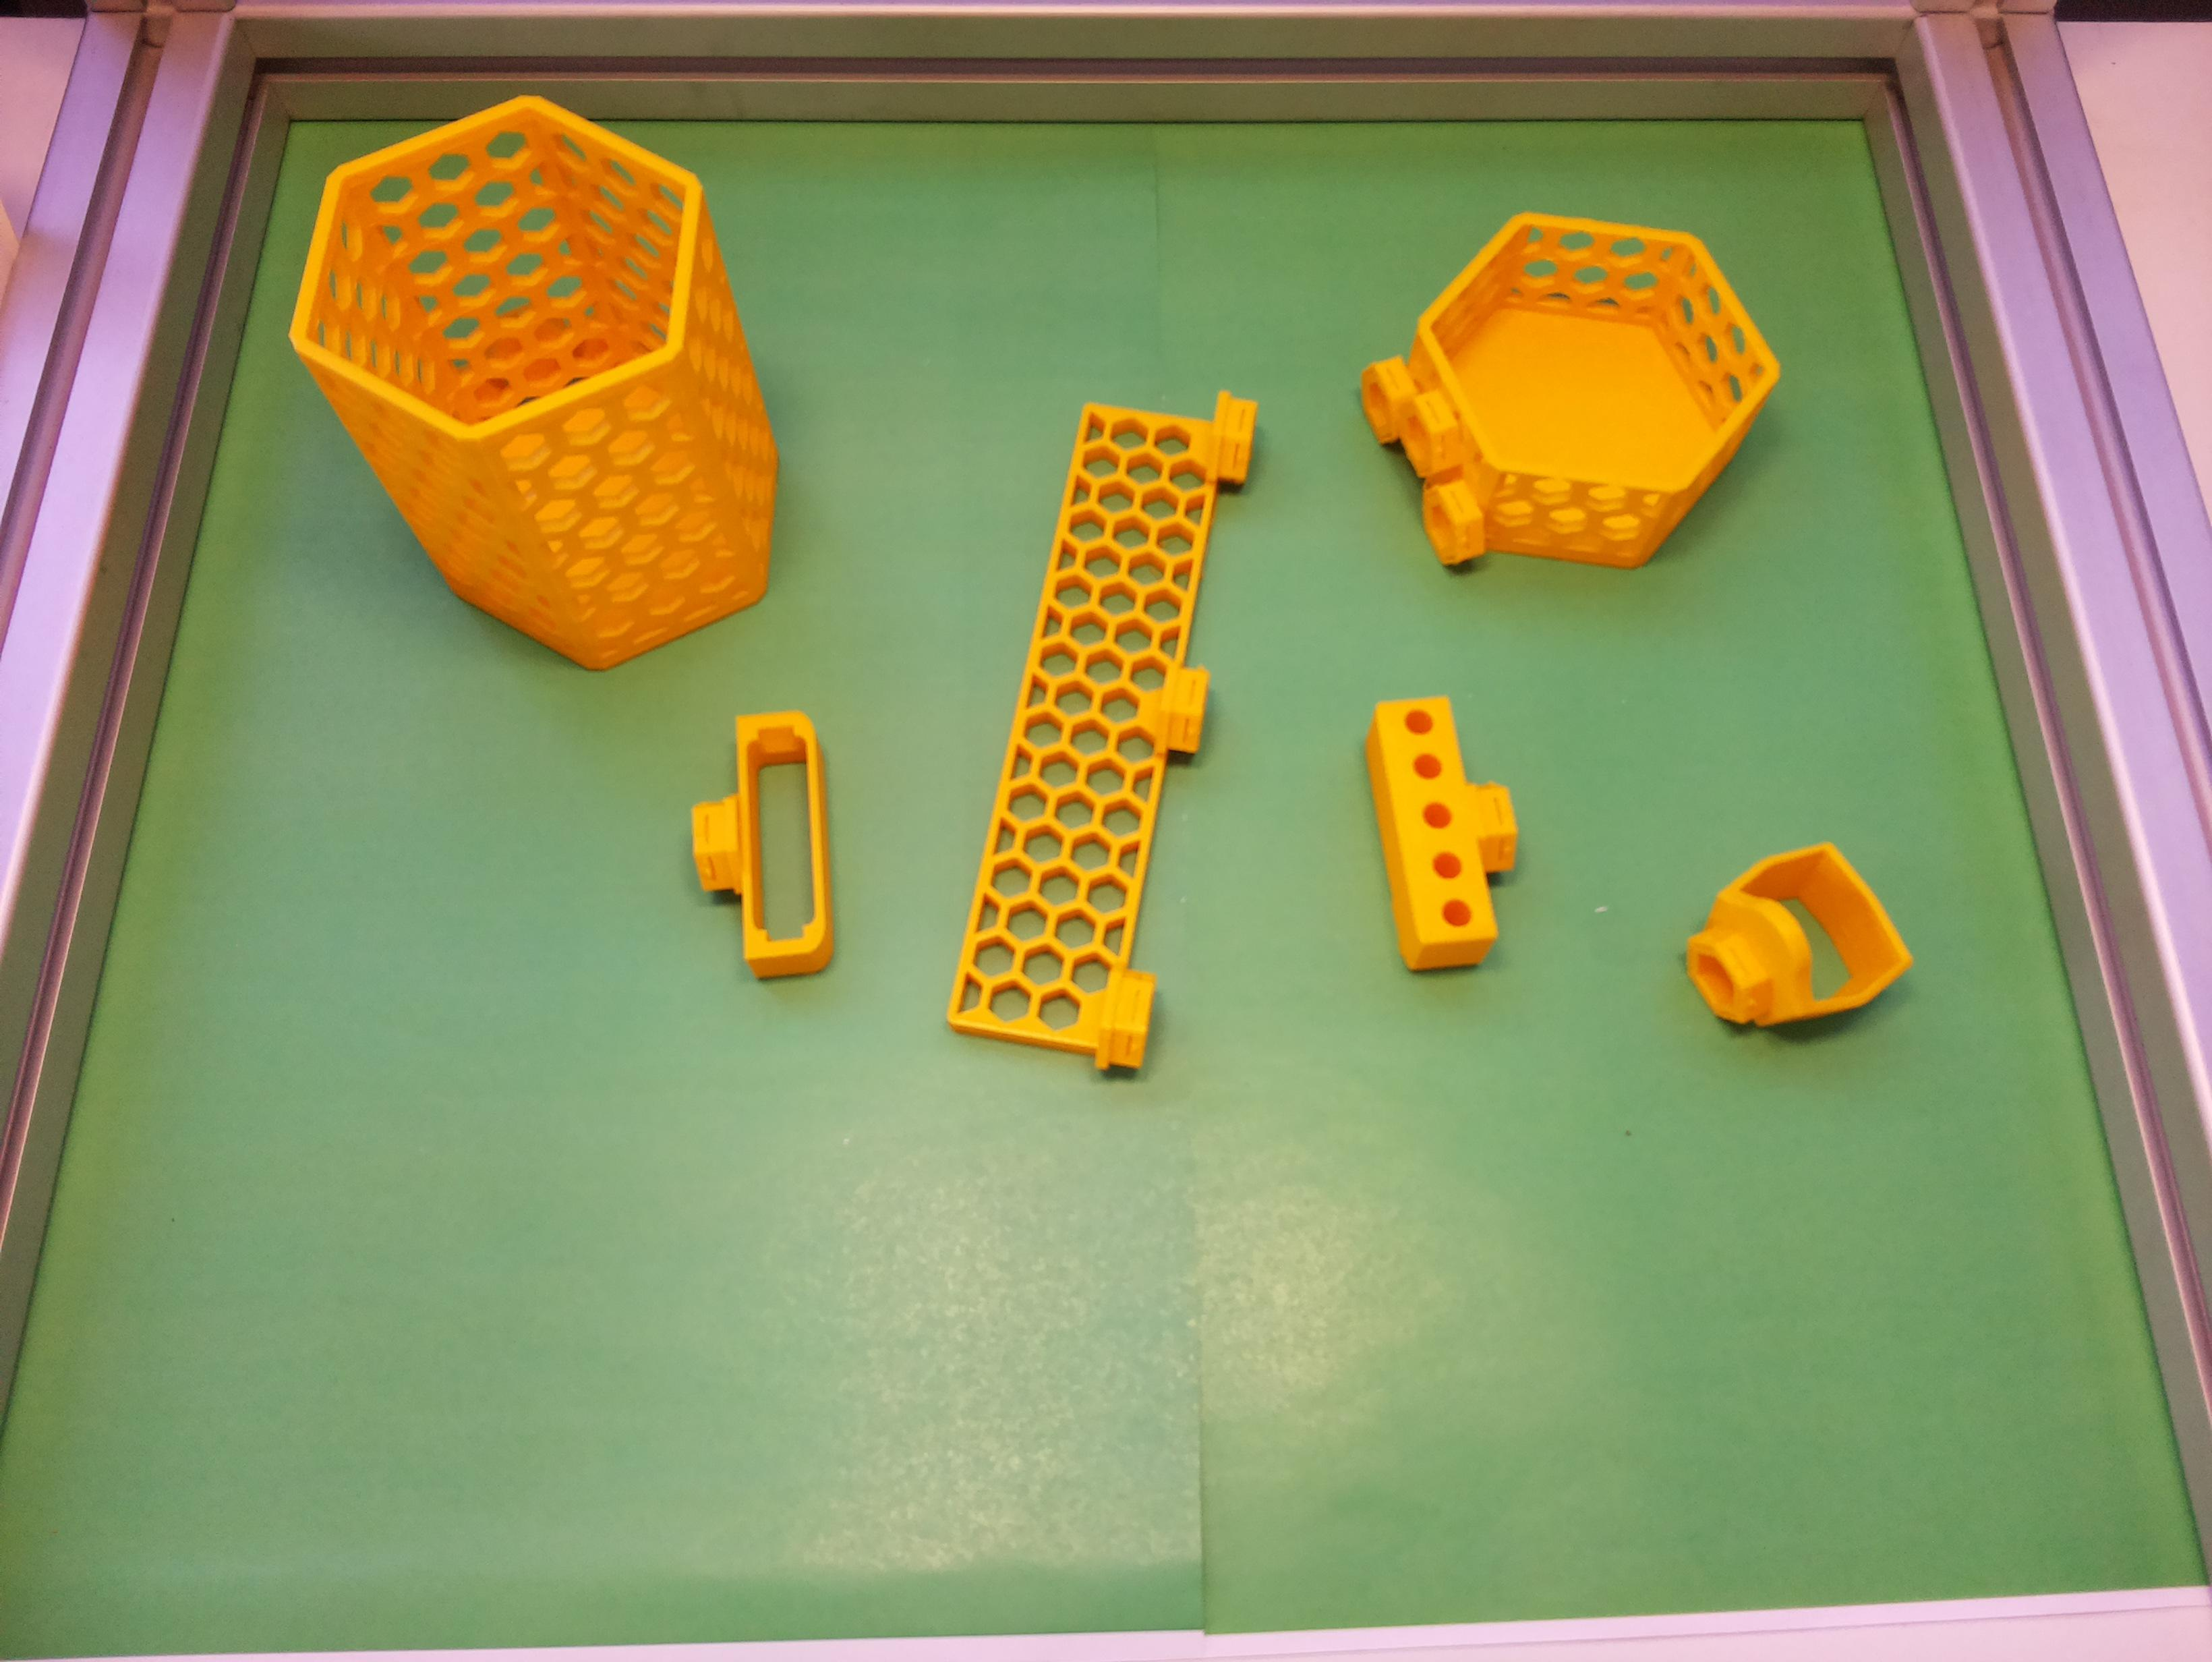bit_holder: (1360, 690, 1531, 972)
bottle_holder: (1306, 136, 1831, 663)
cup_holder: (239, 47, 850, 731)
cutter_holder: (690, 711, 835, 979)
scissor_holder: (1659, 819, 1922, 1077)
tool_holder: (943, 363, 1261, 1077)
